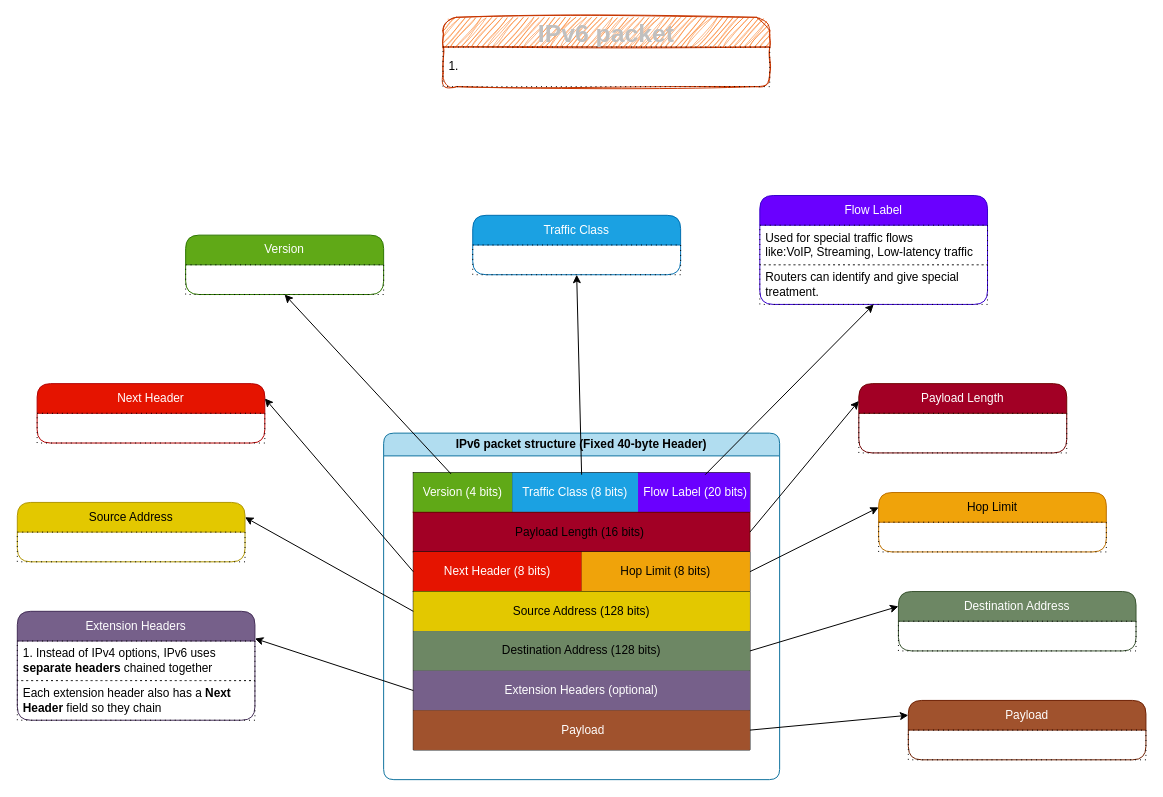
Some shapes in this 1163 by 797 pixel diagram are drawn without their labels. Each missing label, with the centre of its shape:
"0110 → IPv6" goes at pixel 284 279.
"Equivalent to IPv4 “Protocol” field" goes at pixel 150 427.
"IPv6 address of receiver" goes at pixel 1016 635.
"IPv6 address of sender." goes at pixel 130 546.
"Same as IPv4" goes at pixel 1026 744.
"Same as IPv4 TTL." goes at pixel 992 536.
"Size of everything after the IPv6 header" goes at pixel 962 432.
"Used for QoS." goes at pixel 576 259.
